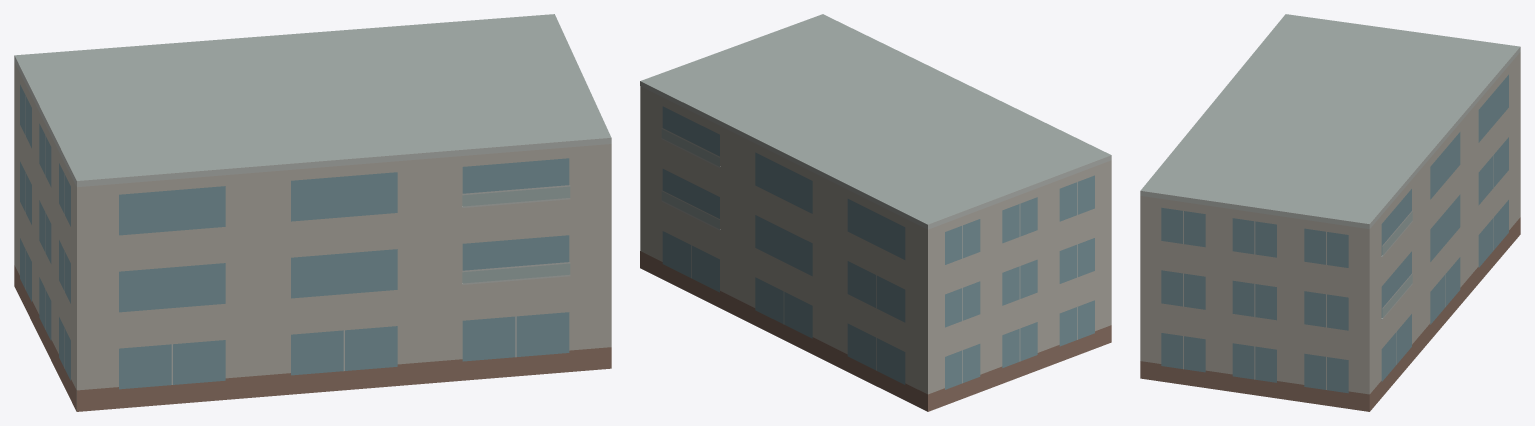
File: survey-upis-32839191.glb
3 views of the same model, side by side, from view 1: azimuth 30°, elevation 25°; view 2: azimuth 150°, elevation 25°; view 3: azimuth 270°, elevation 25° (orthographic). The views are drawn at different scales.
Visible parts, largest first — view 1: survey-upis-32839191.tmp; view 2: survey-upis-32839191.tmp; view 3: survey-upis-32839191.tmp.
Part boxes in pixels (x1=…): survey-upis-32839191.tmp: x1=14, y1=14, x2=611, y2=411; survey-upis-32839191.tmp: x1=640, y1=14, x2=1111, y2=411; survey-upis-32839191.tmp: x1=1140, y1=14, x2=1520, y2=411.
Bounding box in the file's own units: 21.98 × 9.15 × 16.81.
